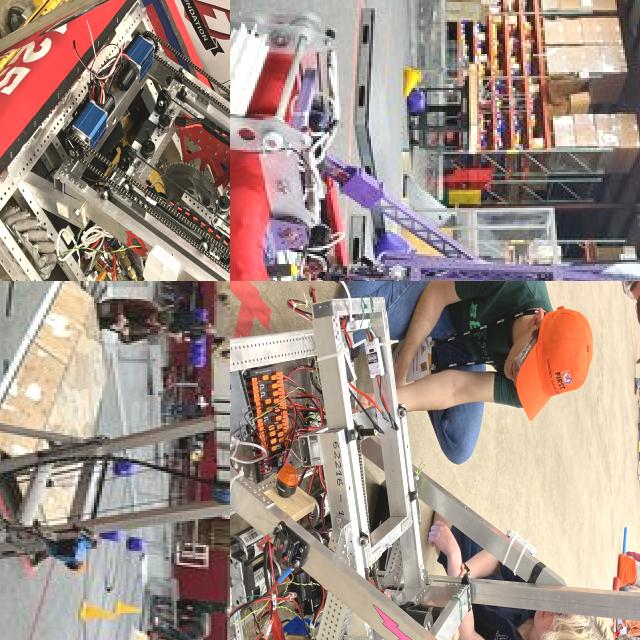FRC-Robots: (230, 281, 640, 640), (230, 0, 640, 281), (0, 281, 230, 636), (0, 0, 230, 281)
